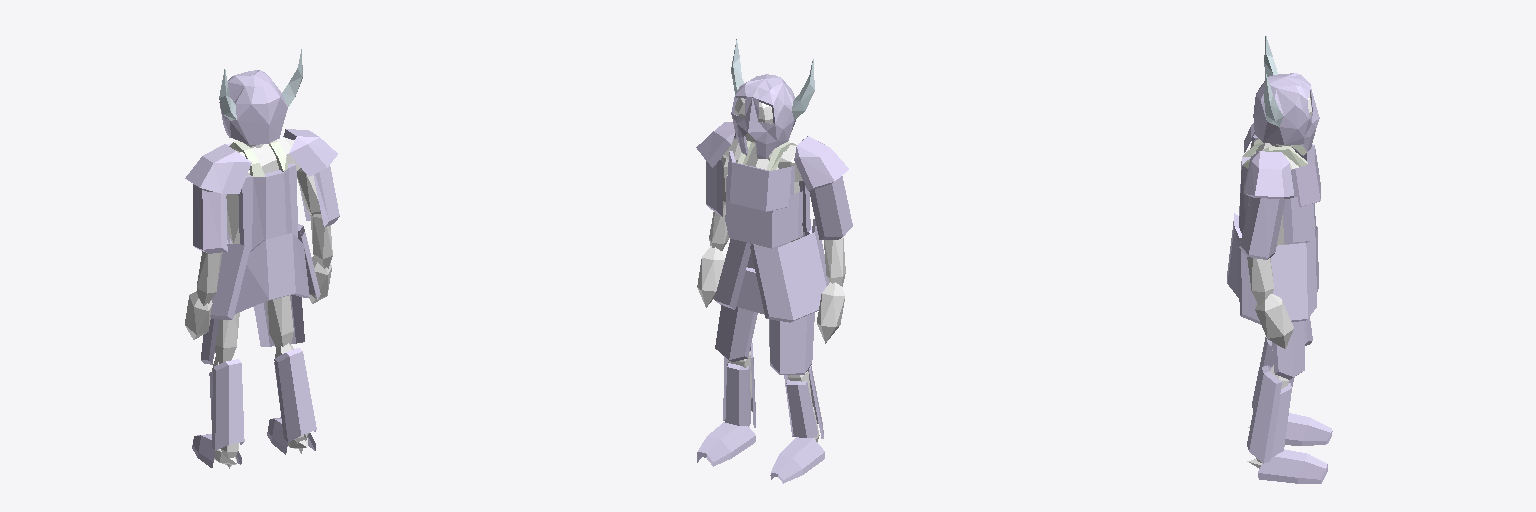
The model's file is Ghost.obj.
3 views of the same model, side by side, from view 1: azimuth 30°, elevation 25°; view 2: azimuth 150°, elevation 25°; view 3: azimuth 270°, elevation 25° (orthographic).
Visible parts, largest first — view 1: Plane; view 2: Plane; view 3: Plane.
Boxes of the visible parts, <box> form: Plane: <box>185,49,339,468</box>; Plane: <box>696,39,852,483</box>; Plane: <box>1227,36,1332,483</box>.
Bounding box in the file's own units: 0.4703 × 1.31 × 0.3066.